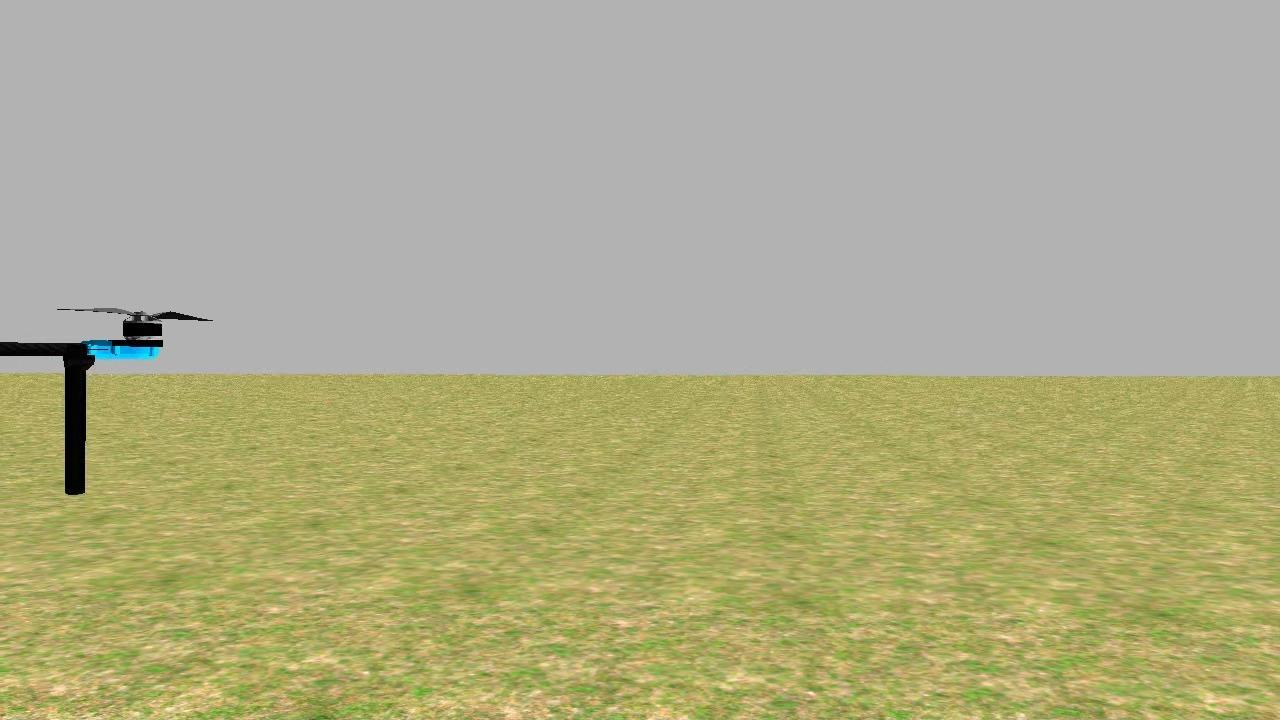UAV: (0, 295, 172, 507)
